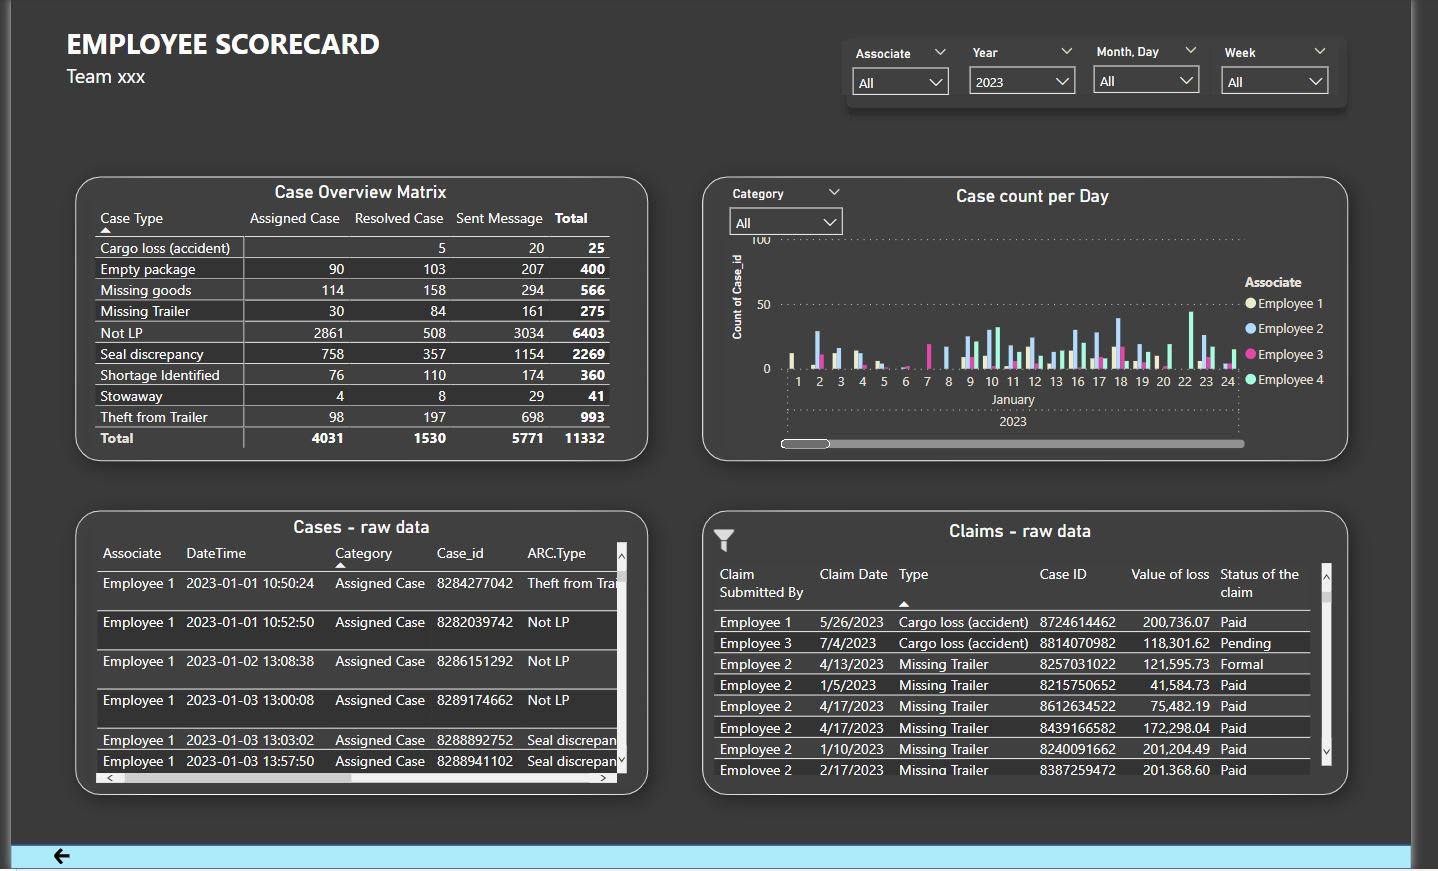

What the dashboard file says about the page in this screenshot:
{"tool":"powerbi","page":{"name":"Page 2","canvas":[1322,823],"ordinal":1},"visuals":[{"type":"tableEx","title":"Claims - row data","fields":{"Values":["Claims.Claim Submitted By","Claims.Claim Date","Claims.Type","Claims.Case ID","Claims.Value of loss","Claims.Status of the claim"]},"box":[658.6,529,593.8,209.7],"z":0},{"type":"actionButton","box":[651.6,489,43.6,40.1],"z":1000},{"type":"textbox","box":[881.3,489,182.6,40.1],"z":2000},{"type":"slicer","fields":{"Values":["Calendar.Month","Calendar.Day"]},"box":[1012.6,38.6,119.7,51.7],"z":4000},{"type":"slicer","fields":{"Values":["Years.Year"]},"box":[895.9,39.2,119.7,51.7],"z":5000},{"type":"textbox","title":"Report name","box":[47.6,19.2,494,91.1],"z":6000},{"type":"slicer","fields":{"Values":["Calendar.Week of Year"]},"box":[1134.3,39.9,120.7,51.7],"z":8000},{"type":"pivotTable","title":"Case Overview Matrix","fields":{"Rows":["Case_All_Append.ARC.Type"],"Values":["CountNonNull(Case_All_Append.Case_id)"],"Columns":["Case_All_Append.Category"]},"box":[75.1,172.5,511.3,261.8],"z":9000},{"type":"lineClusteredColumnComboChart","title":"Case count per Day","fields":{"Y":["CountNonNull(Case_All_Append.Case_id)"],"Series":["Case_All_Append.Associate"],"Category":["Calendar.Date.Variation.Date Hierarchy.Year","Calendar.Date.Variation.Date Hierarchy.Month","Calendar.Date.Variation.Date Hierarchy.Day"]},"box":[675.6,176.4,579.4,253.6],"z":10000},{"type":"slicer","title":"Ca","fields":{"Values":["Case_All_Append.Category"]},"box":[668.6,172.5,126.8,52.8],"z":11000},{"type":"slicer","fields":{"Values":["Associate.Associate"]},"box":[785.3,40.6,110.6,50.7],"z":12000},{"type":"tableEx","title":"Cases - raw data","fields":{"Values":["Case_All_Append.Associate","Case_All_Append.DateTime","Case_All_Append.Category","Case_All_Append.Case_id","Case_All_Append.ARC.Type","Case_All_Append.Subject"]},"box":[75.2,489.2,511.2,256.6],"z":13000},{"type":"actionButton","box":[36.5,799.5,59.9,23.3],"z":14000}]}

Visuals, with their boxes in screenshot pixels (x1, y1, x2, y2), scaled from the page's 1322x823 canvas onto the 1438x871 screenshot:
"Claims - row data" tableEx: 716 560 1362 782
actionButton: 709 518 756 560
textbox: 959 518 1157 560
slicer - Calendar.Month x Calendar.Day: 1101 41 1232 96
slicer - Years.Year: 975 41 1105 96
"Report name" textbox: 52 20 589 117
slicer - Calendar.Week of Year: 1234 42 1365 97
"Case Overview Matrix" pivotTable: 82 183 638 460
"Case count per Day" lineClusteredColumnComboChart: 735 187 1365 455
"Ca" slicer: 727 183 865 238
slicer - Associate.Associate: 854 43 975 97
"Cases - raw data" tableEx: 82 518 638 789
actionButton: 40 846 105 870
